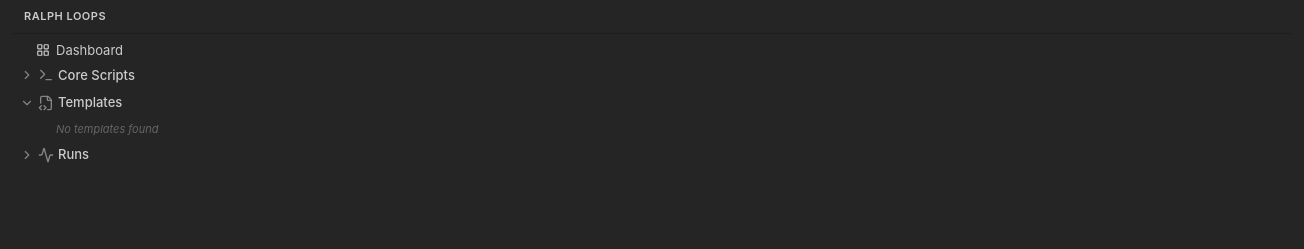
Scenario: RalphSidebar › renders all Core Script items (Ralph Loop, Ralph PR, Ralph Issues)
Click the button "Core Scripts".
click(96, 74)  # box [12,62,1292,89]
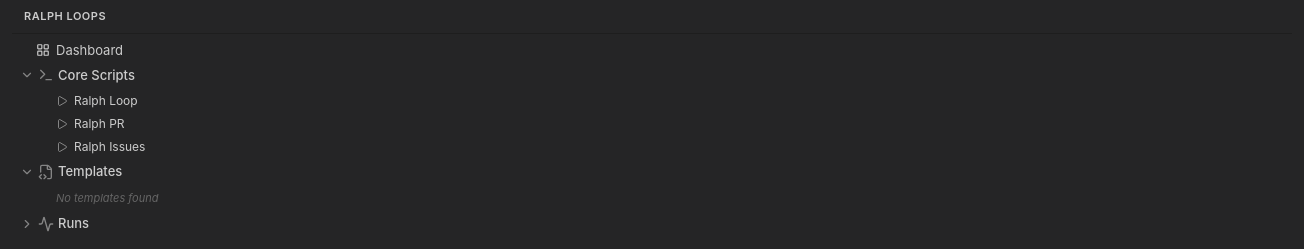
expect the text "Ralph Loop" is shown: met, box [74,93,138,108]
expect the text "Ralph PR" is shown: met, box [74,116,124,131]
expect the text "Ralph Issues" is shown: met, box [74,139,146,154]
